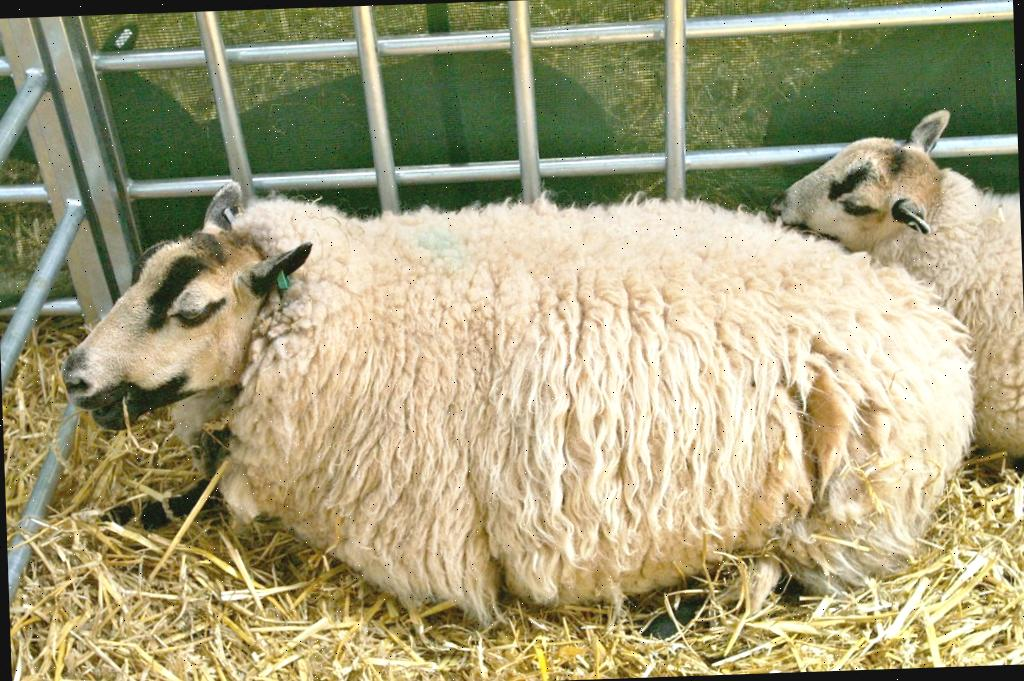Sheep: (58, 158, 980, 650), (763, 107, 1024, 471)
